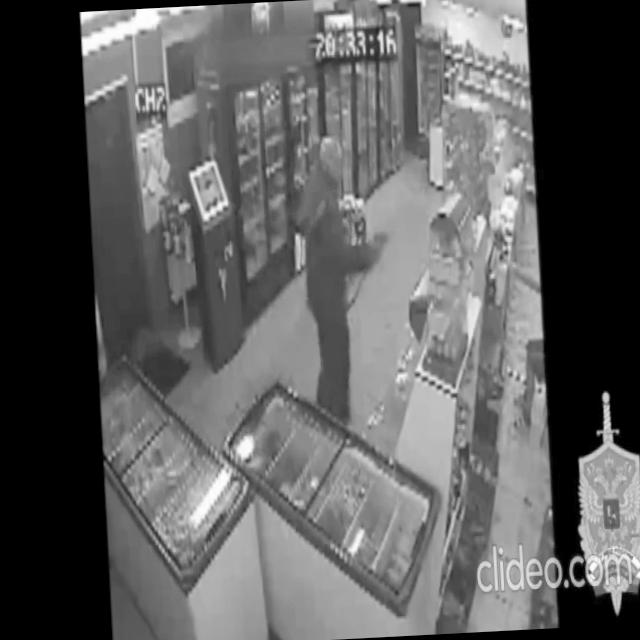gun: (374, 230, 392, 248)
person with a gun: (294, 133, 402, 424)
